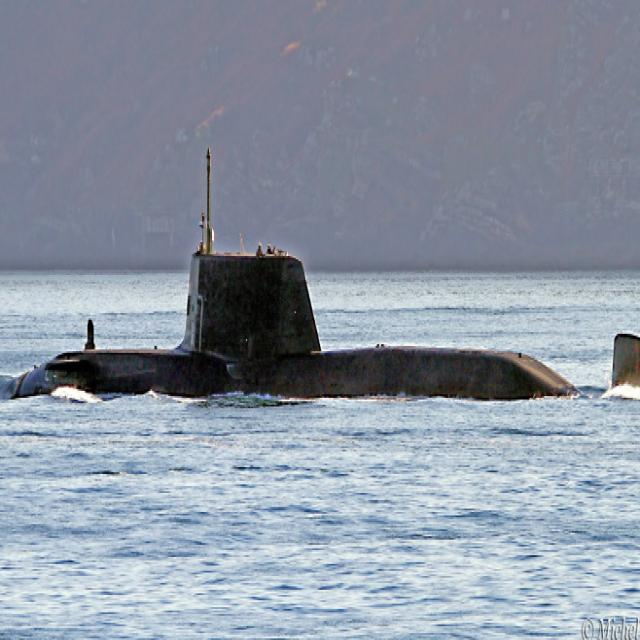submarine: (12, 141, 640, 393)
